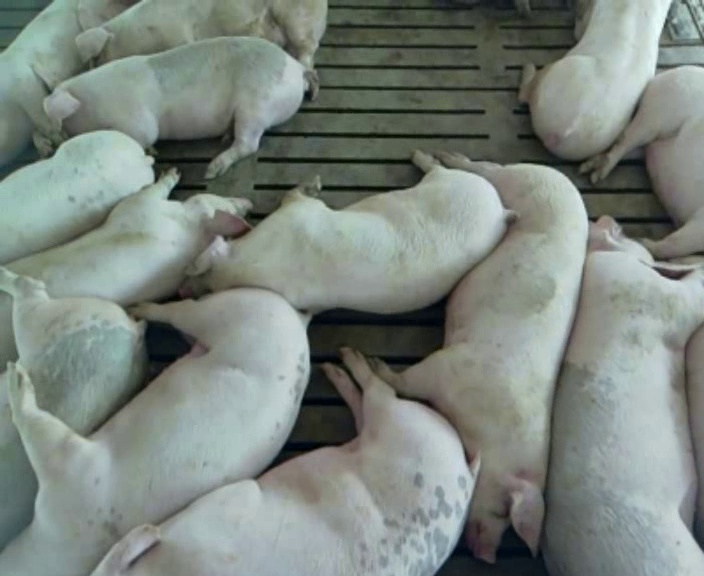pig: (0, 288, 309, 573), (94, 350, 479, 573), (377, 152, 586, 561), (543, 217, 703, 573), (189, 152, 508, 312), (32, 37, 305, 177), (76, 2, 326, 98), (518, 2, 669, 159), (580, 66, 703, 257), (0, 2, 129, 166), (0, 130, 153, 263)
